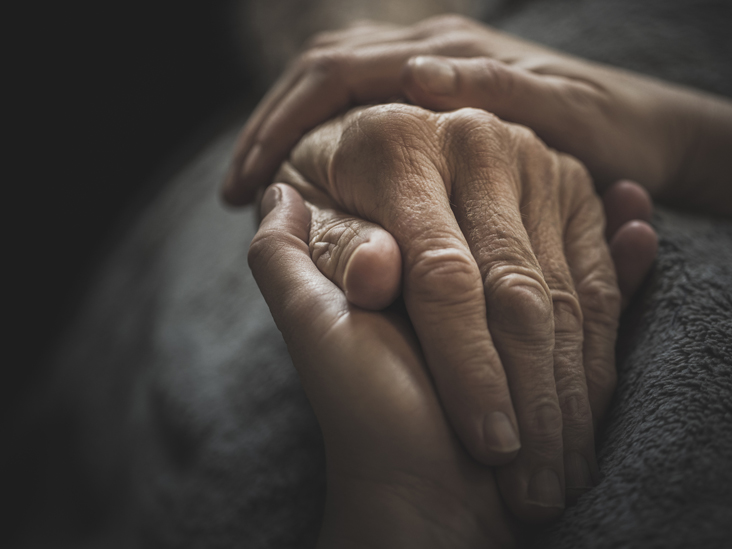finger: (385, 169, 521, 470), (472, 186, 572, 524), (240, 38, 413, 184), (525, 203, 601, 496), (562, 225, 616, 415)
